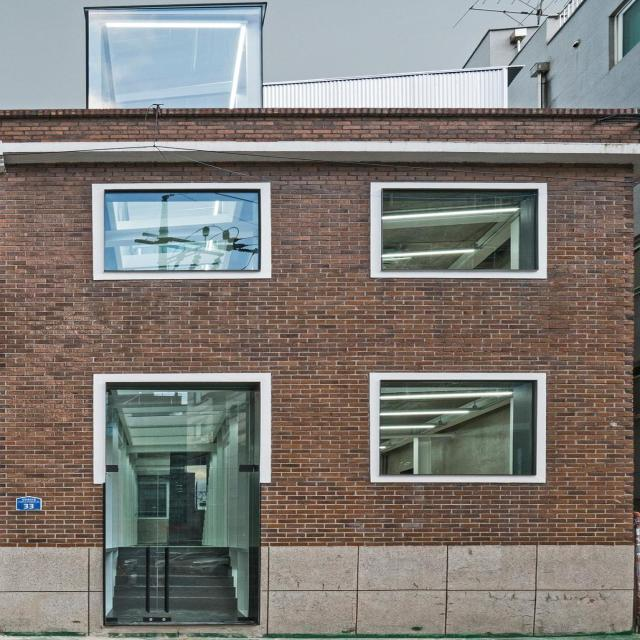door: (105, 386, 259, 626)
wall: (0, 0, 639, 636)
windows: (90, 6, 265, 108), (379, 382, 533, 476), (104, 190, 262, 273), (382, 188, 539, 271)
